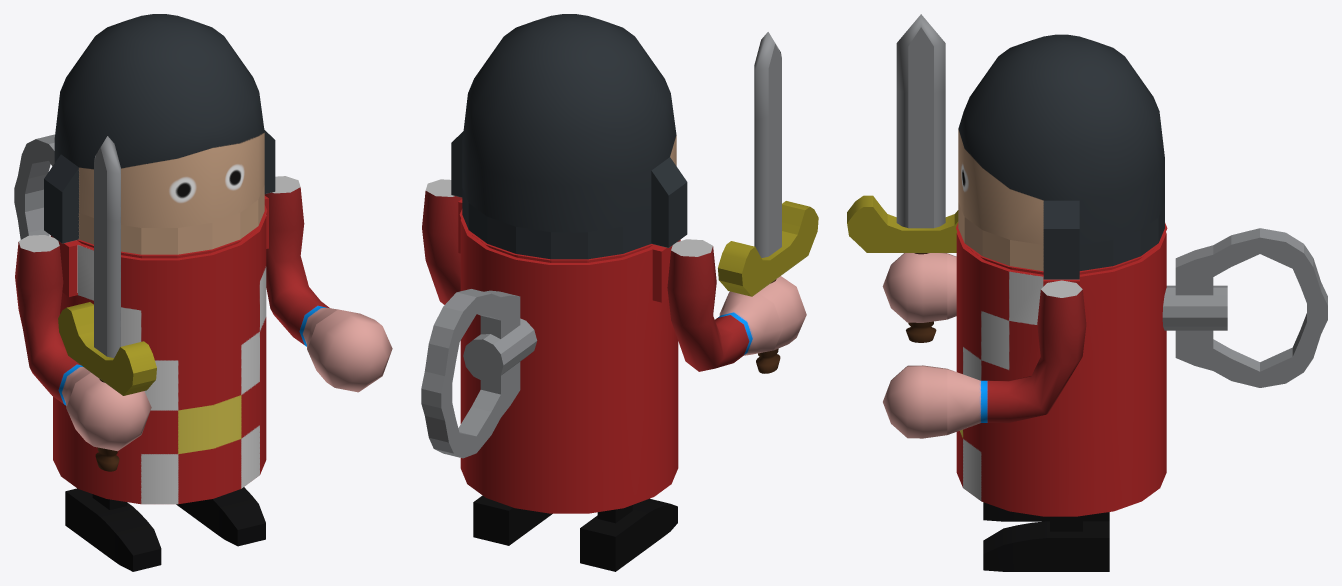
The model's file is unit_sword.fbx.
3 views of the same model, side by side, from view 1: azimuth 30°, elevation 25°; view 2: azimuth 150°, elevation 25°; view 3: azimuth 270°, elevation 25° (orthographic). The views are drawn at different scales.
Visible parts, largest first — view 1: Sphere002, Object002, Object003, Line001, Object005, Object004, Object001; view 2: Sphere002, Object001, Line001, Object003, Object005, Object002, Object004; view 3: Sphere002, Line001, Object001, Object002, Object004, Object003, Object005.
Boxes of the visible parts, x1,y1,x2,y2 form: Sphere002: (44,14,275,504); Object002: (264,176,392,392); Object003: (15,235,151,451); Line001: (58,136,156,471); Object005: (65,488,161,571); Object004: (176,487,265,546); Object001: (14,134,54,239); Sphere002: (451,14,687,513); Object001: (421,289,537,458); Line001: (718,32,818,373); Object003: (667,239,806,371); Object005: (580,498,677,571); Object002: (422,179,462,304); Object004: (473,495,552,545); Sphere002: (956,34,1167,516); Line001: (847,14,958,342); Object001: (1162,228,1327,387); Object002: (883,280,1086,438); Object004: (983,516,1109,571); Object003: (882,253,956,322); Object005: (983,502,1109,521).
Size of the model in its own units: 50.24 by 68.77 by 78.06.
5 materials, 5 textured.
